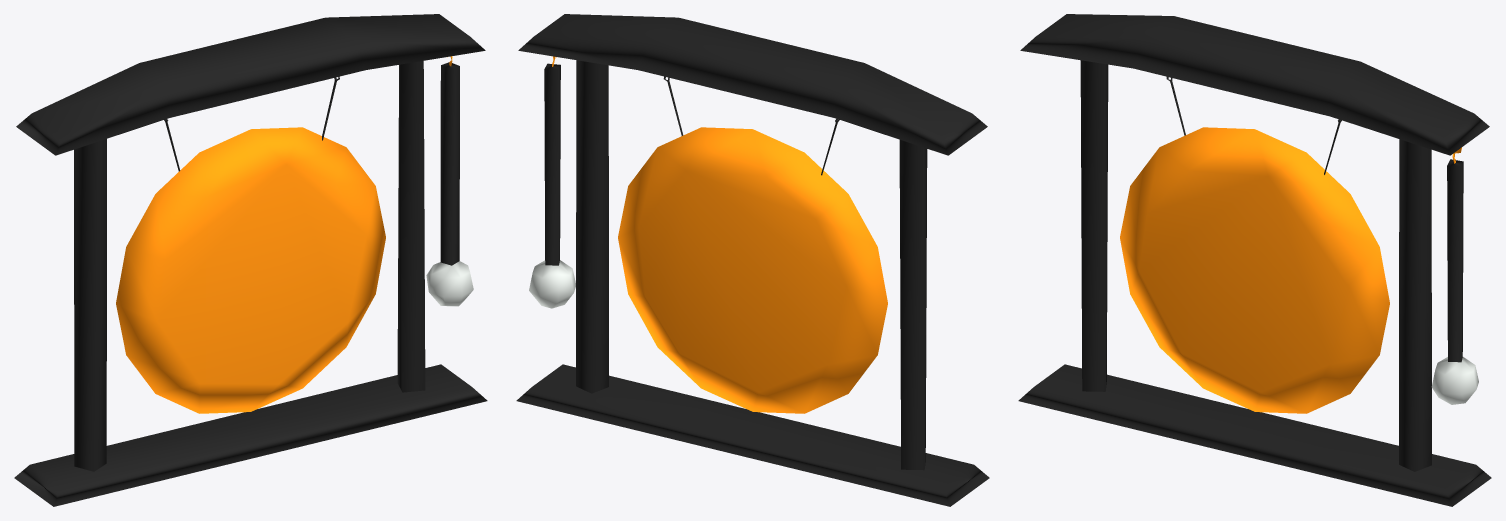
The picture shows the model from 3 angles, left to right: view 1: azimuth 30°, elevation 25°; view 2: azimuth 150°, elevation 25°; view 3: azimuth 330°, elevation 25°; orthographic projection.
Visible parts, largest first — view 1: AsianGong.002; view 2: AsianGong.002; view 3: AsianGong.002.
Boxes of the visible parts, x1,y1,x2,y2 form: AsianGong.002: [14, 14, 487, 506]; AsianGong.002: [516, 14, 989, 506]; AsianGong.002: [1018, 14, 1491, 506].
Size of what is drawn, in the model's own units: 2.47 by 2.09 by 0.3864.
Materials: 2 (2 with a texture image).
